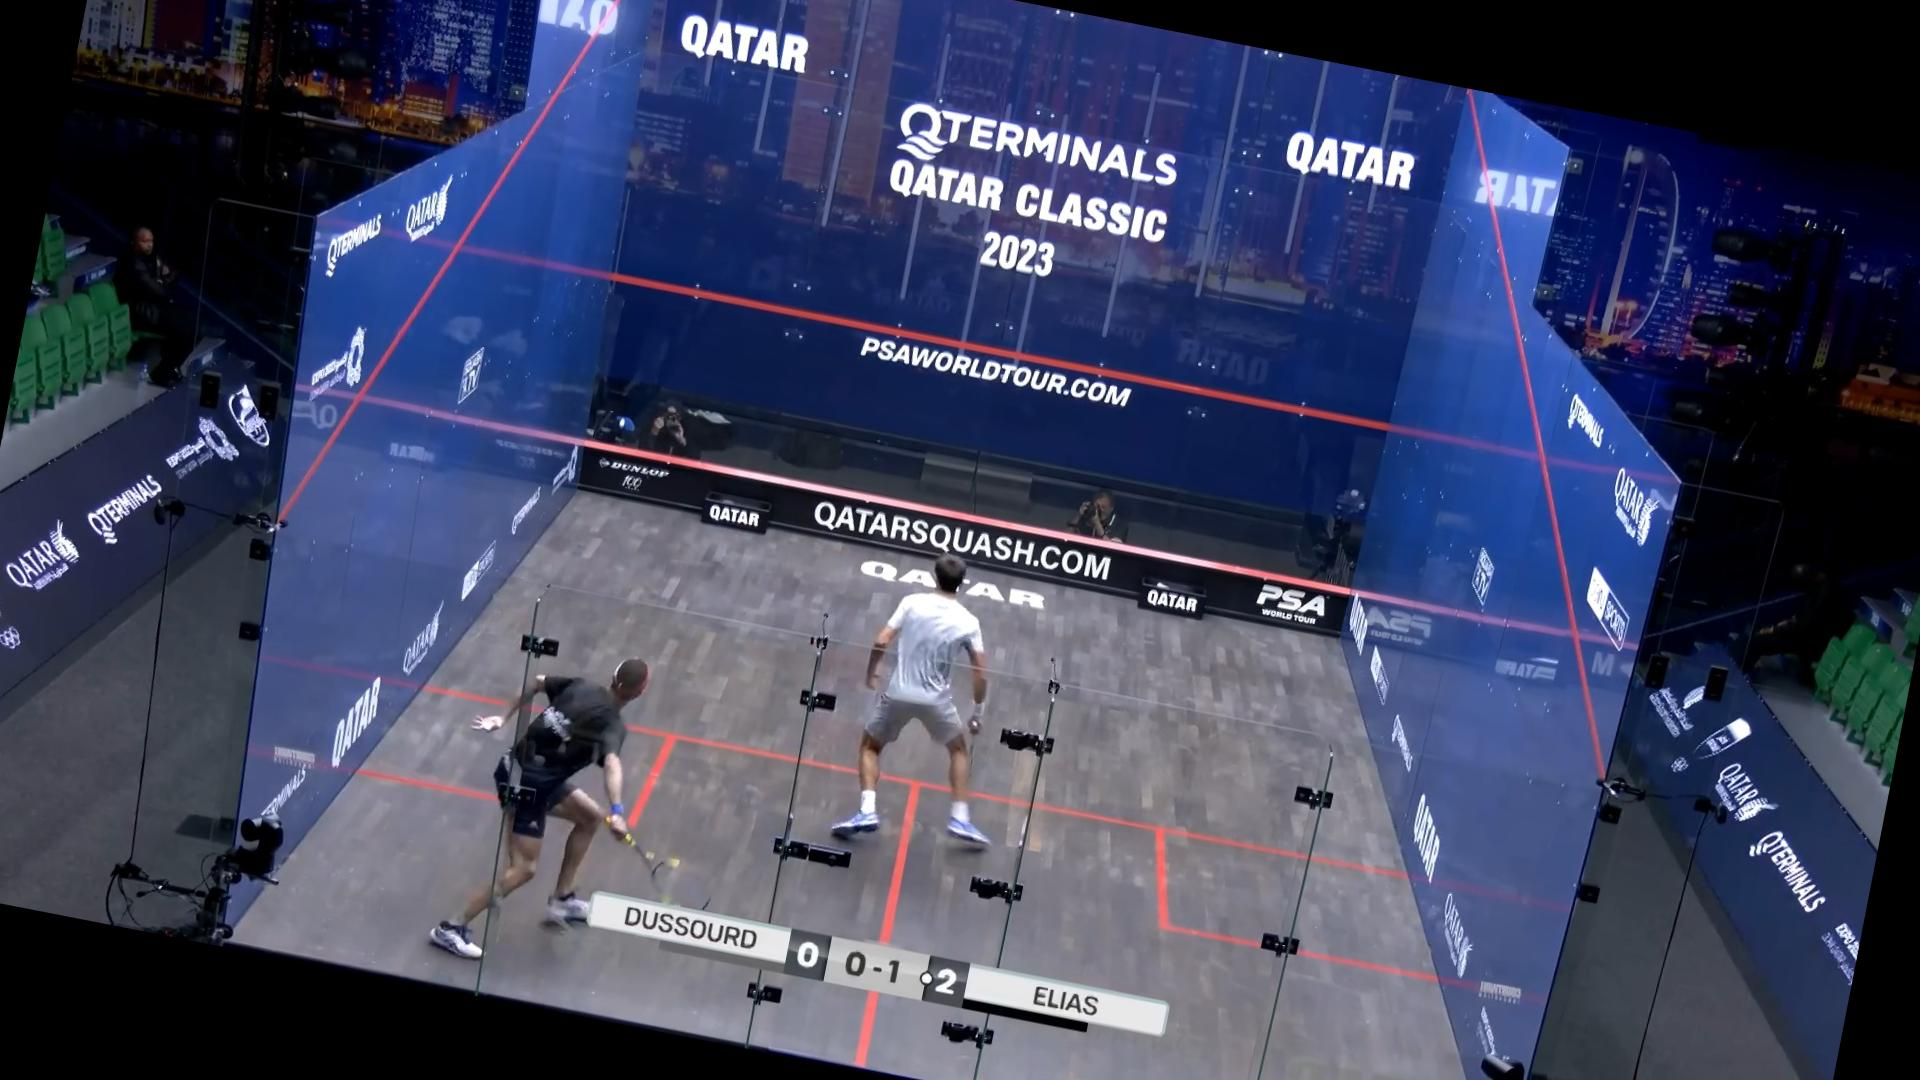Racket: (592, 812, 731, 914)
